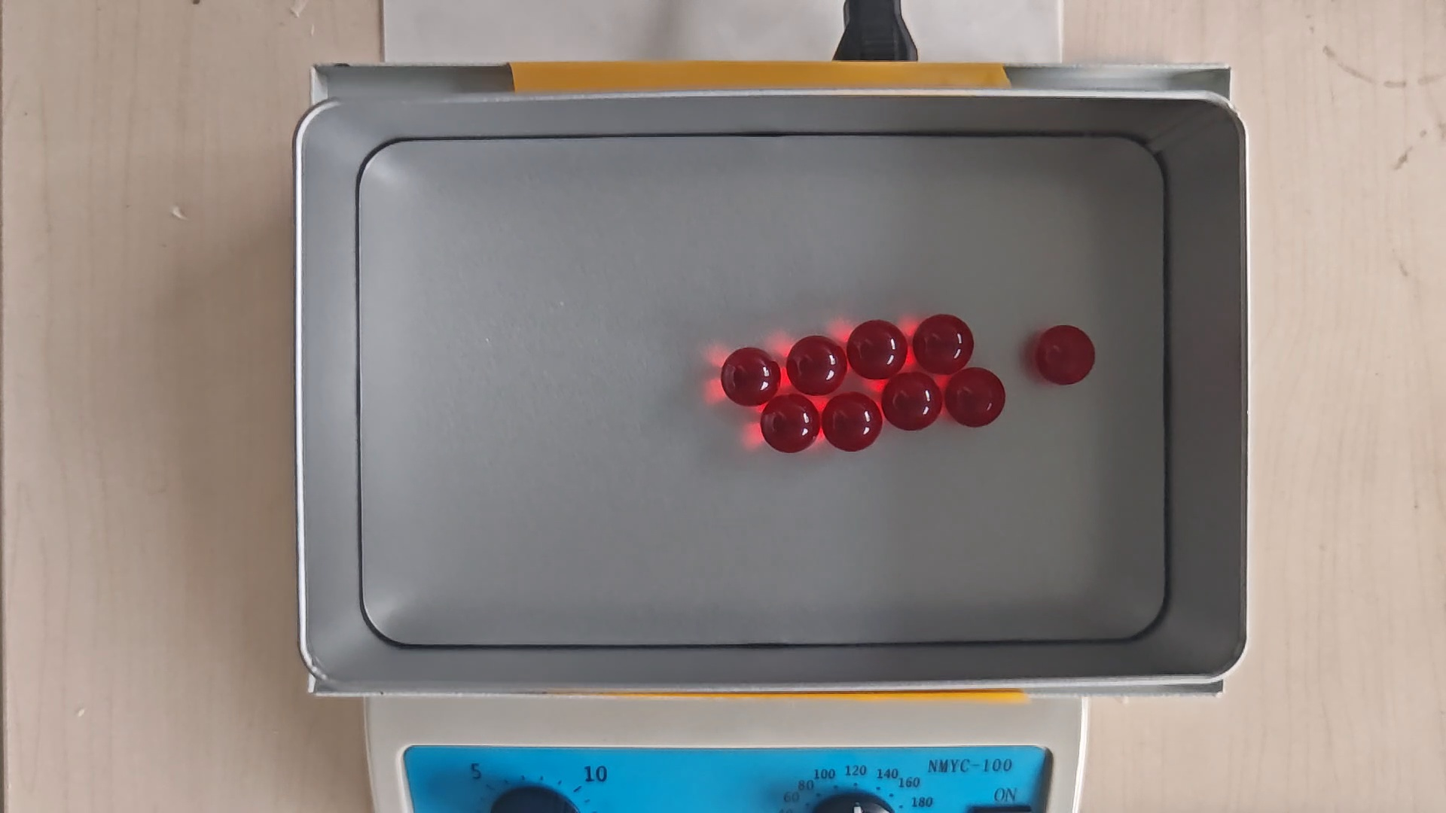ball: (1034, 324, 1096, 387), (913, 313, 974, 375), (761, 393, 821, 454), (787, 335, 847, 396), (946, 368, 1006, 429), (883, 371, 942, 432), (823, 392, 882, 453), (720, 347, 779, 407), (848, 319, 906, 380)
container: (353, 133, 1173, 644)
